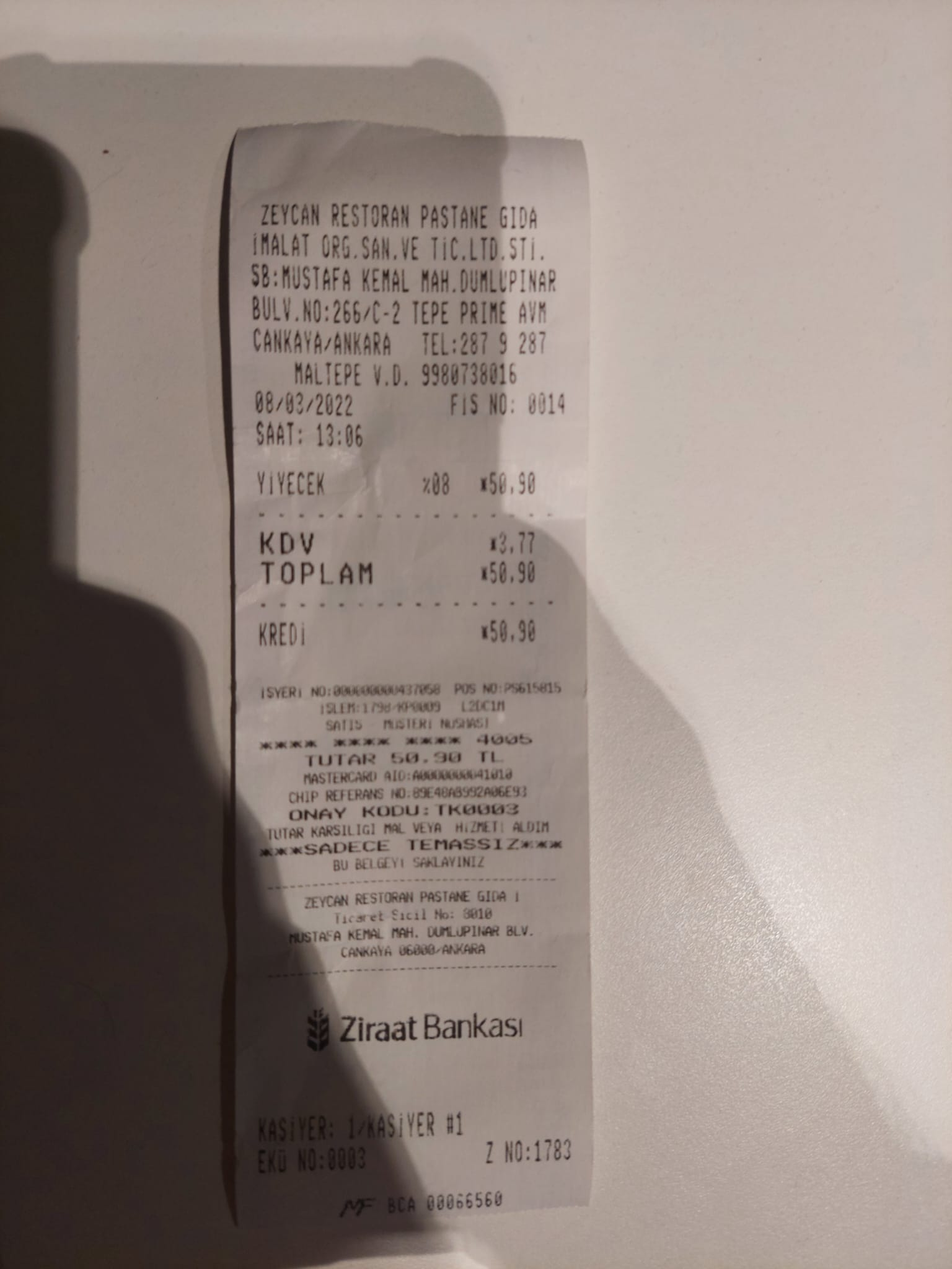date: (245, 384, 362, 423)
price: (485, 555, 544, 589)
workplace: (244, 194, 567, 329)
